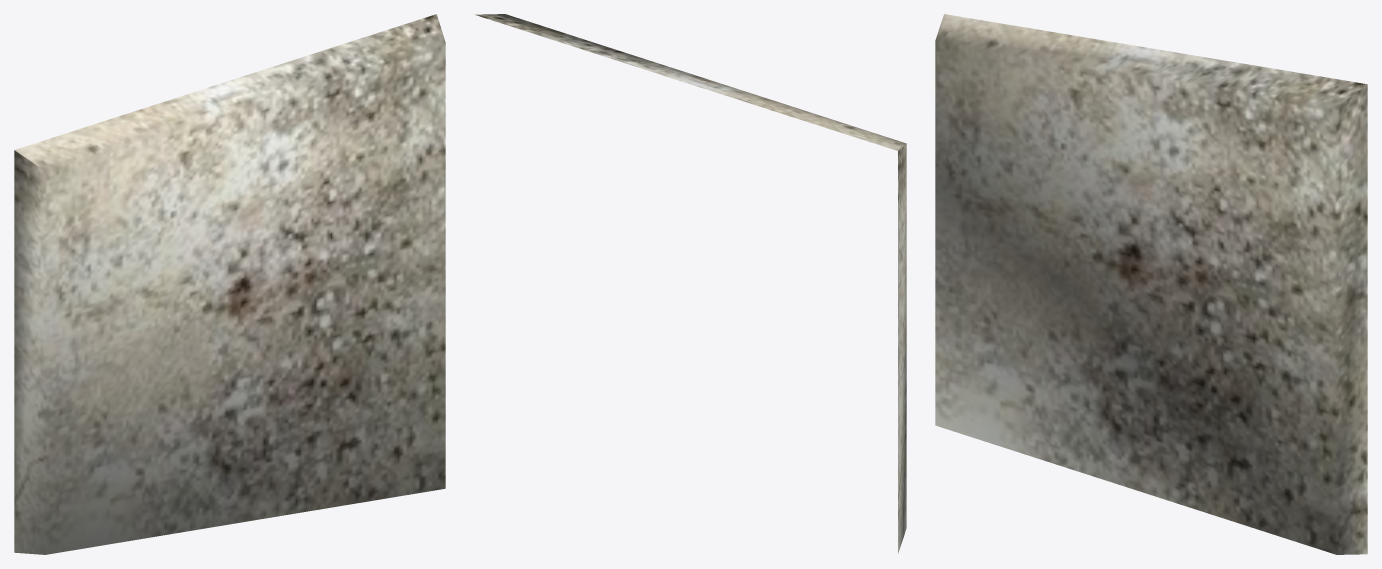
File: furniture_duhoc_chair_dirty3.glb
The picture shows the model from 3 angles, left to right: view 1: azimuth 30°, elevation 25°; view 2: azimuth 150°, elevation 25°; view 3: azimuth 330°, elevation 25°; orthographic projection.
Bounding box in the file's own units: 19.25 × 20.41 × 1.57.
Materials: 1 (1 with a texture image).
